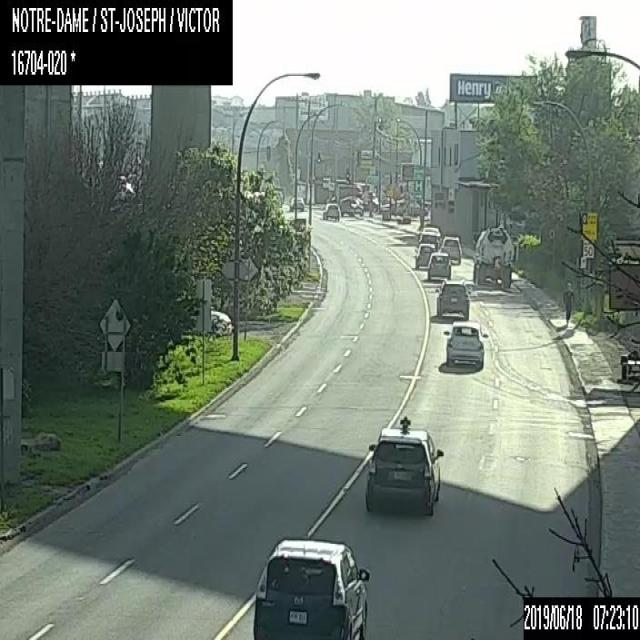construction: (610, 231, 639, 382)
pedestrian: (562, 282, 574, 324)
vehicle: (253, 538, 369, 639), (364, 416, 444, 516), (471, 223, 511, 287), (442, 321, 488, 369), (435, 278, 470, 316), (439, 235, 461, 264), (427, 252, 450, 279), (414, 242, 435, 268), (340, 197, 363, 216), (417, 232, 438, 252), (418, 226, 440, 243), (322, 203, 339, 219), (289, 196, 304, 211)
